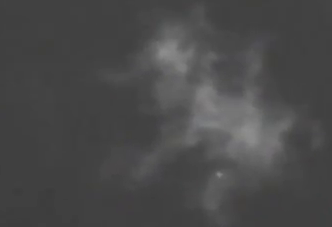Target: (216, 173, 222, 176)
